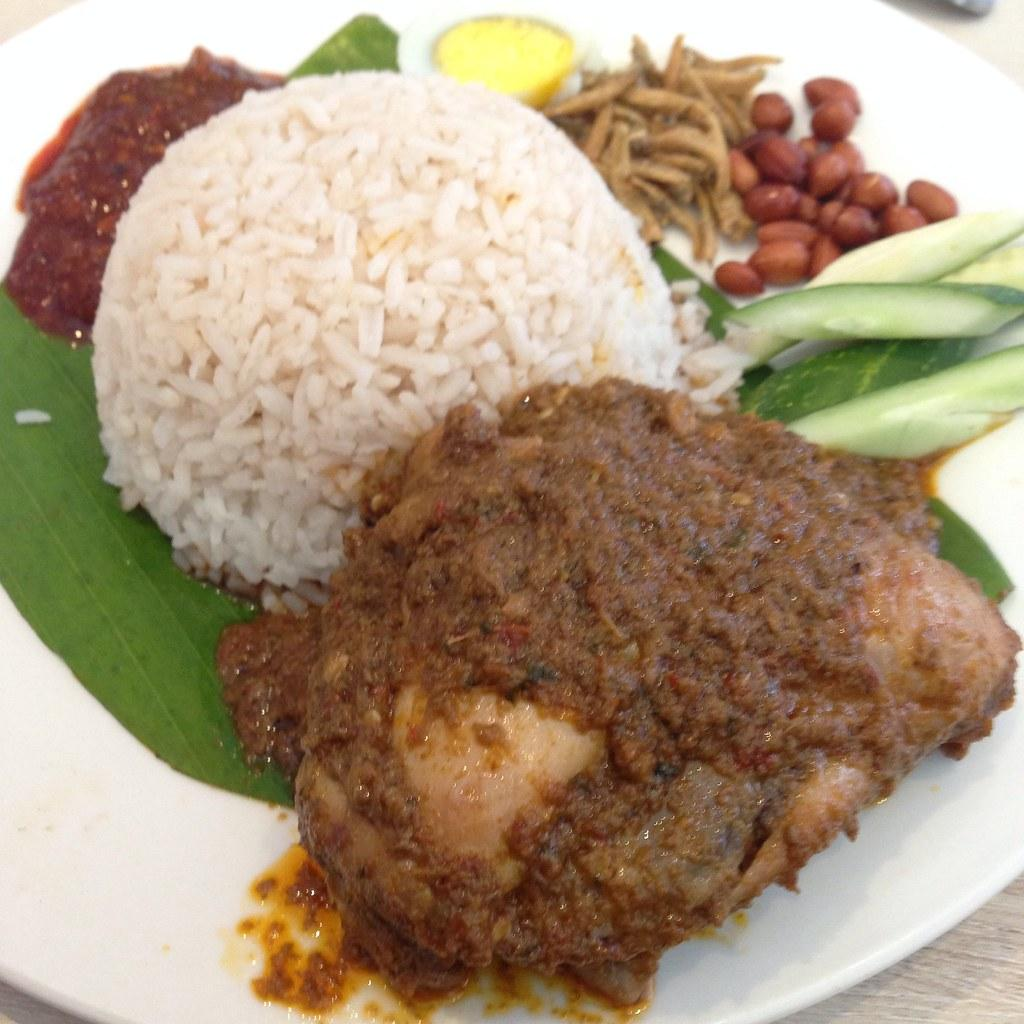Anchovies: (545, 37, 774, 270)
Boiled-Egg: (392, 0, 626, 111)
Cucumber: (742, 218, 1024, 454)
Peanuts: (716, 77, 957, 294)
Rendang-Chicken: (220, 384, 1023, 1004)
Rice: (92, 76, 675, 616)
Sambal: (3, 46, 285, 350)
